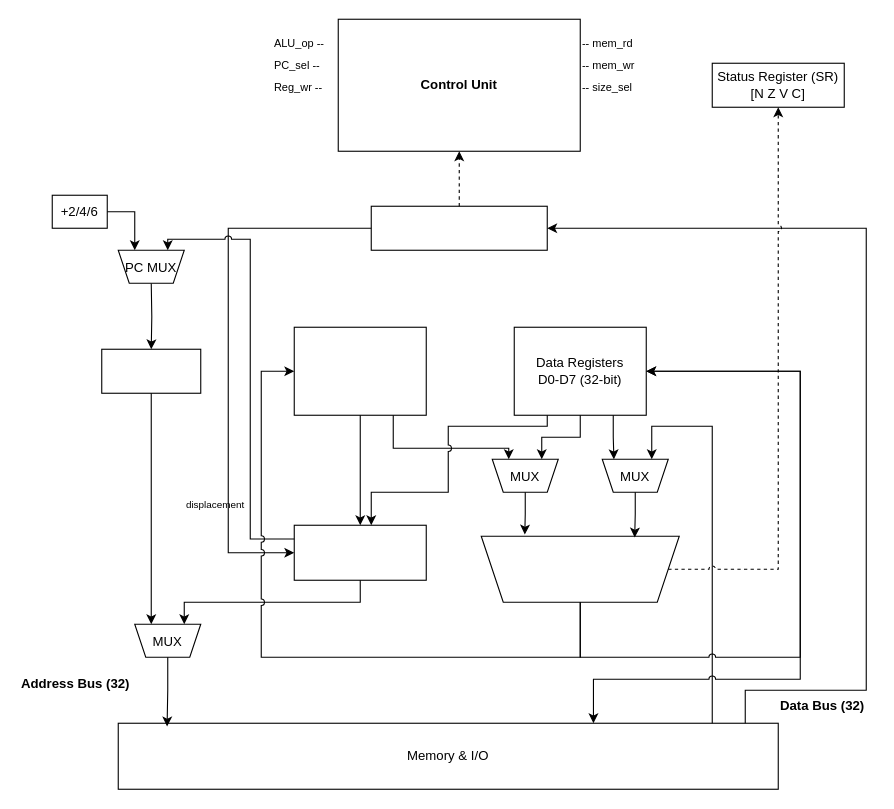
Some shapes in this 894 by 809 pixel diagram are drawn without their labels. The shapes that lost their labels are listed below. From the top down, each one's centre as x and y in pixels, then its label:
At (458,227): "Instruction Register (IR)".
At (151,370): "PC (32-bit)".
At (359,370): "Address Registers A0-A7 (32-bit)".
At (359,552): "EA Adder (Address Gen)".
At (579,568): "ALU".
